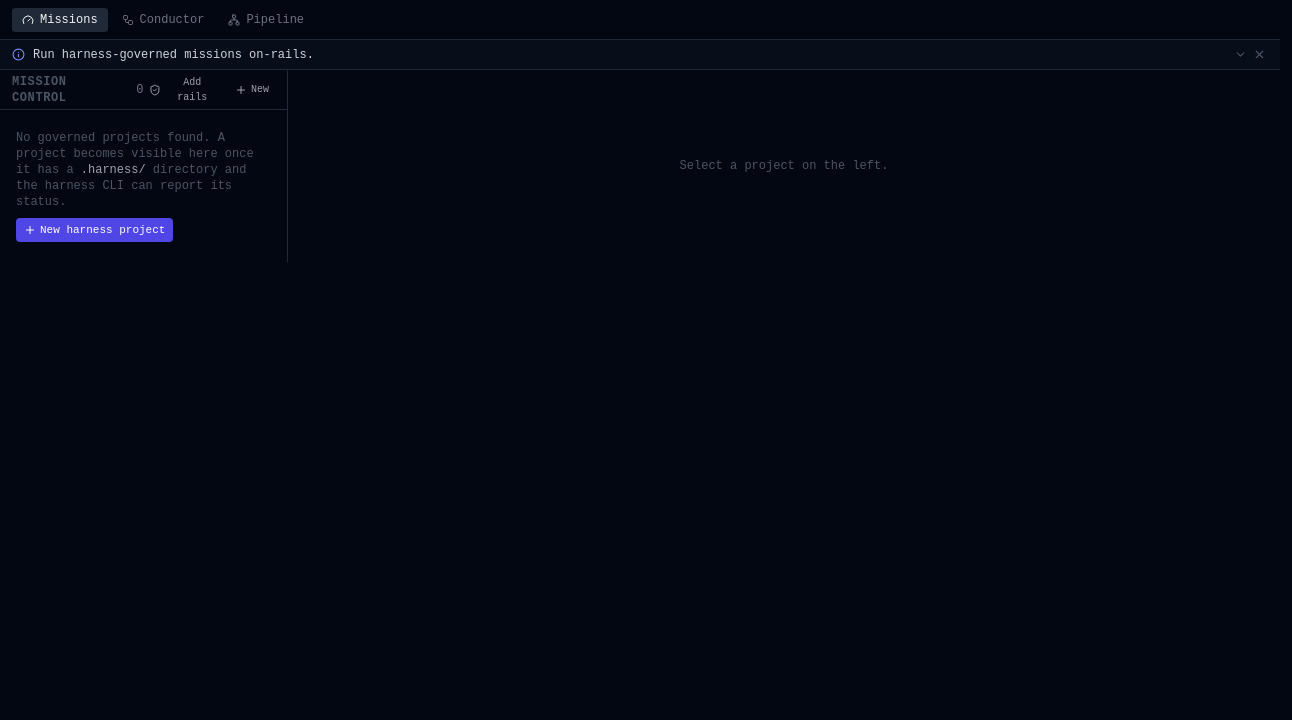
RunsTab — mode switch › switches to the Pipeline mode (a mode inside Runs, not a sibling tab) — live view first
Check: the text "No governed projects found" is shown, box [16, 131, 254, 177]
Click the button "Pipeline".
click(266, 20)  # box [218, 8, 314, 32]
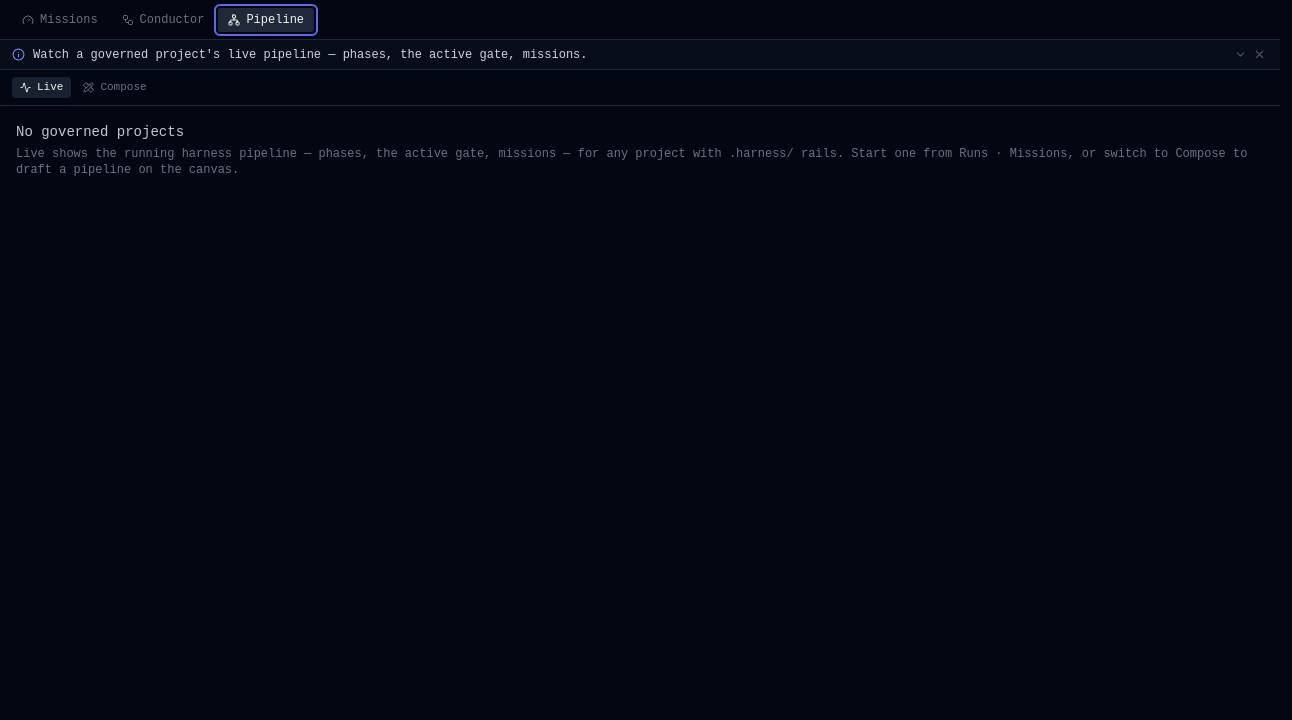
Check: the text "No governed projects" is shown, box [16, 124, 184, 140]
Click the button "Compose".
click(115, 88)  # box [75, 77, 155, 98]
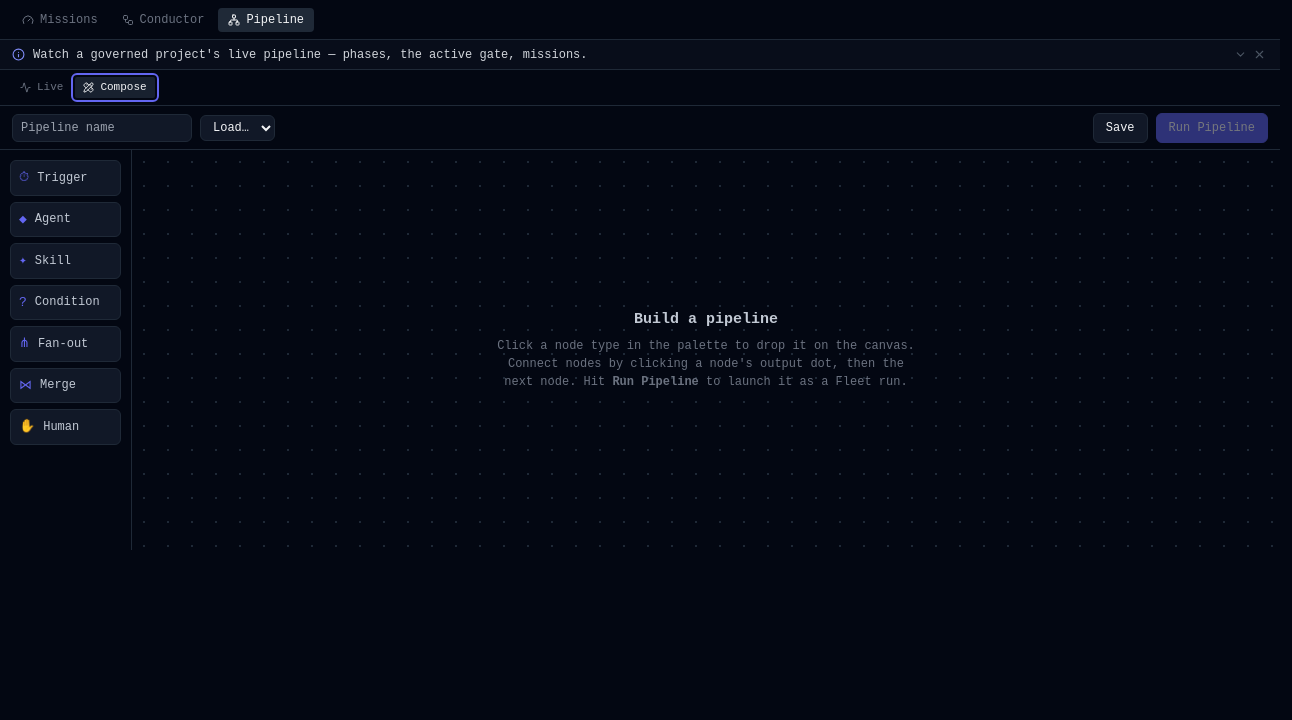
Check: the text "No governed projects found" is not shown
Check: the element with test id "pipeline-empty-prompt" is shown, box [497, 311, 915, 389]
